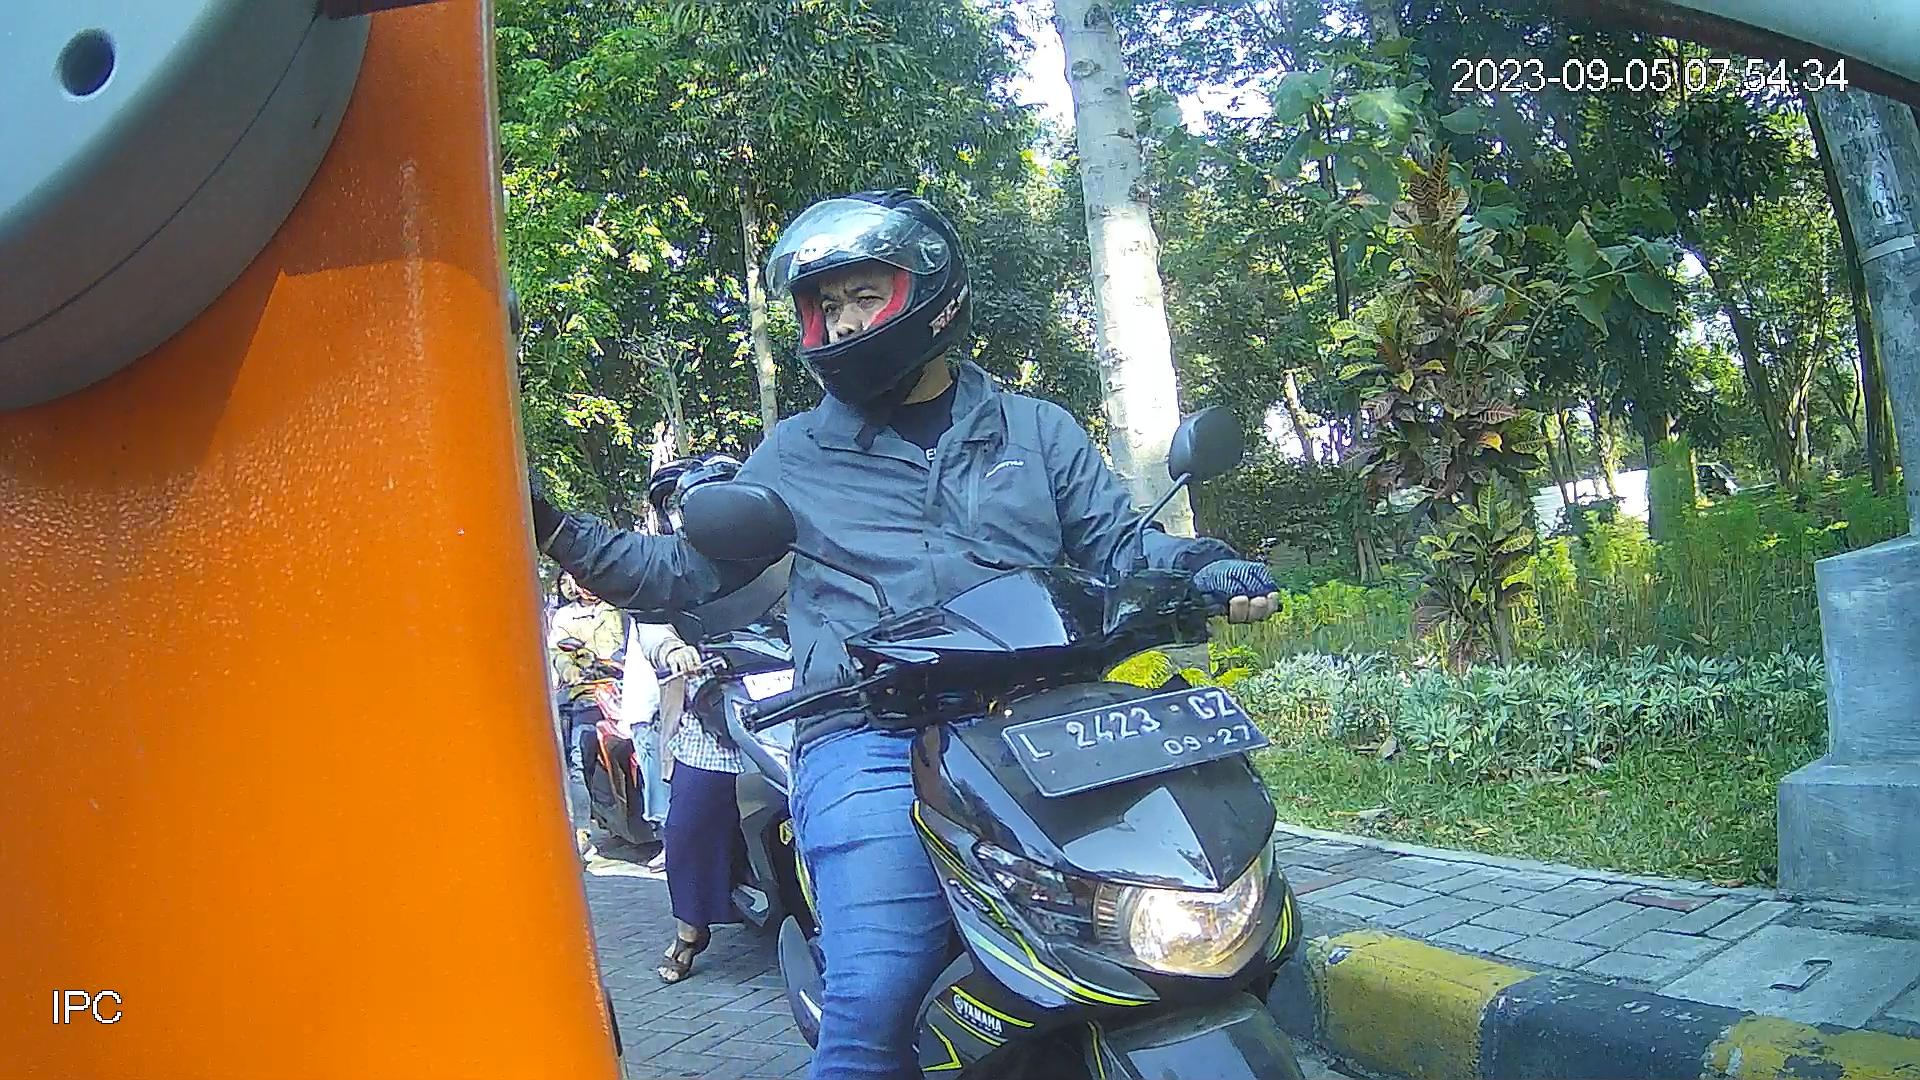plat: (998, 680, 1273, 800)
